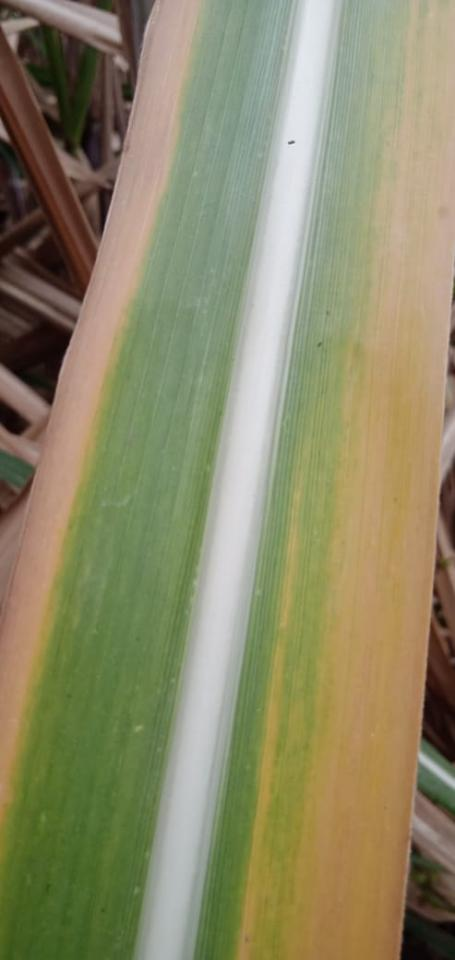Yellow: (0, 1, 200, 817), (284, 0, 454, 959), (238, 636, 285, 959)
